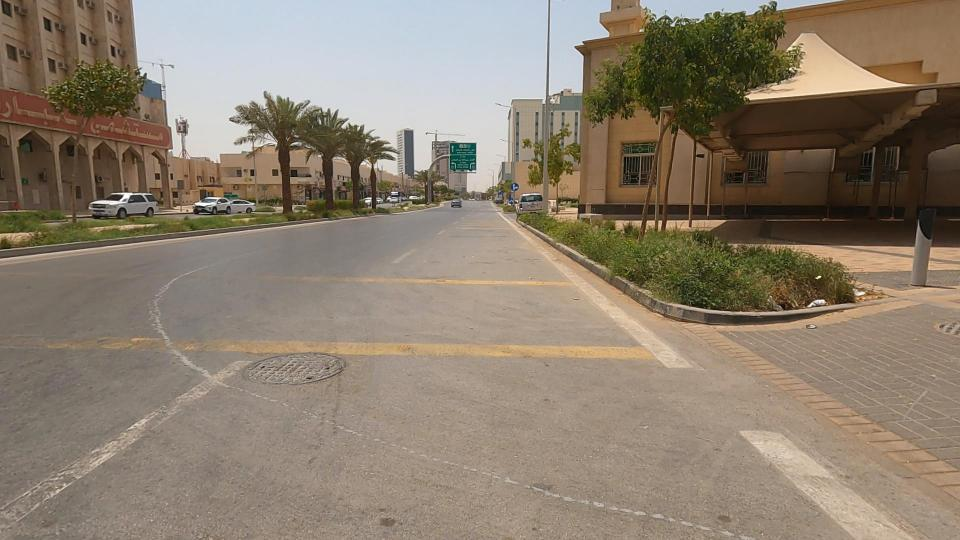BAD_BILLBOARD: (74, 97, 205, 159), (0, 72, 96, 150)
